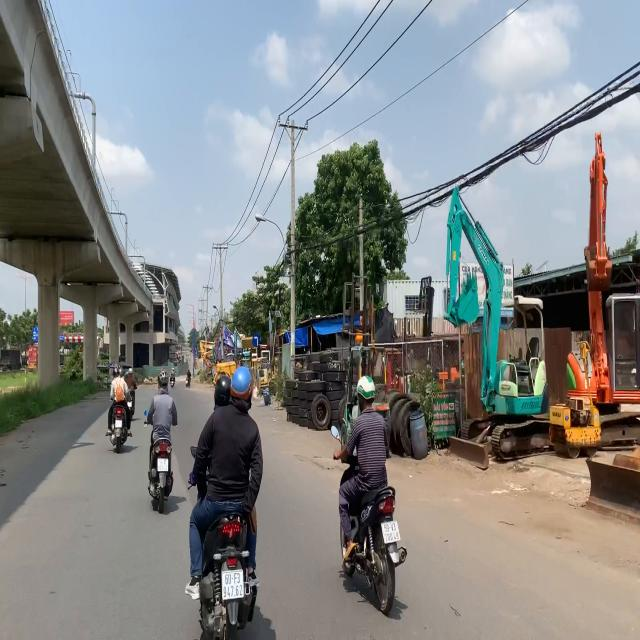Re trai: (252, 333, 260, 348)
